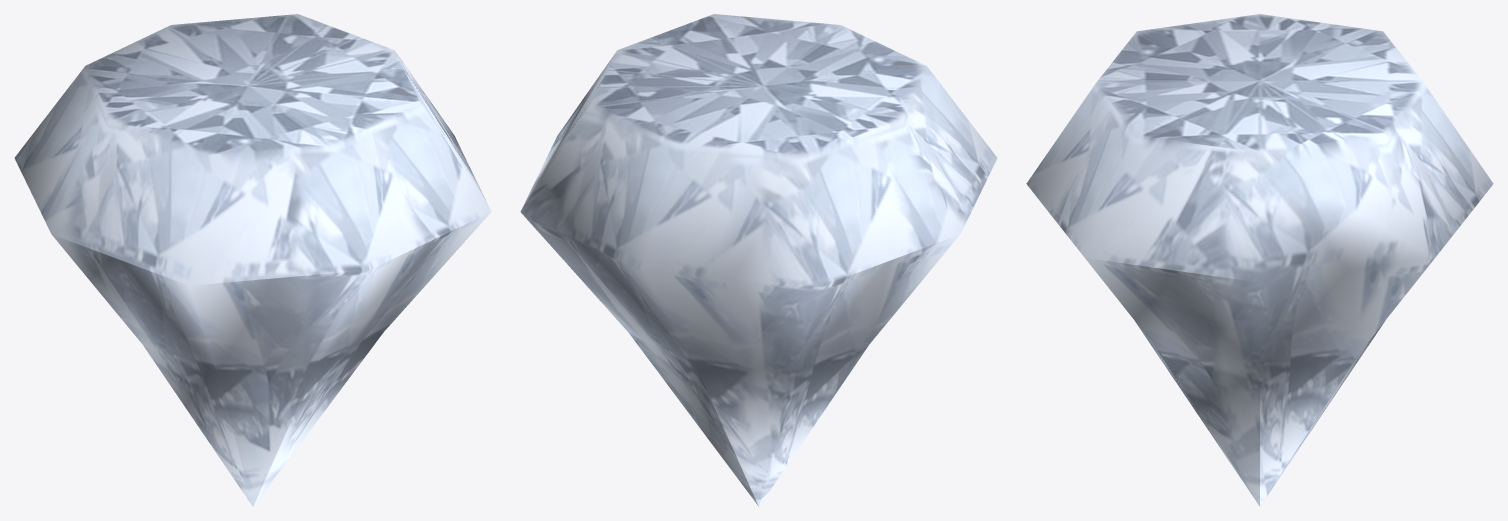
File: Diamond.fbx
3 views of the same model, side by side, from view 1: azimuth 30°, elevation 25°; view 2: azimuth 150°, elevation 25°; view 3: azimuth 270°, elevation 25° (orthographic).
Parts seen in each view (by area): view 1: Diamond; view 2: Diamond; view 3: Diamond.
Boxes of the visible parts, x1=… form: Diamond: x1=14, y1=14, x2=491, y2=506; Diamond: x1=520, y1=14, x2=997, y2=506; Diamond: x1=1026, y1=14, x2=1493, y2=506.
Bounding box in the file's own units: 9.51 × 9.51 × 9.51.
Materials: 1 (1 with a texture image).
